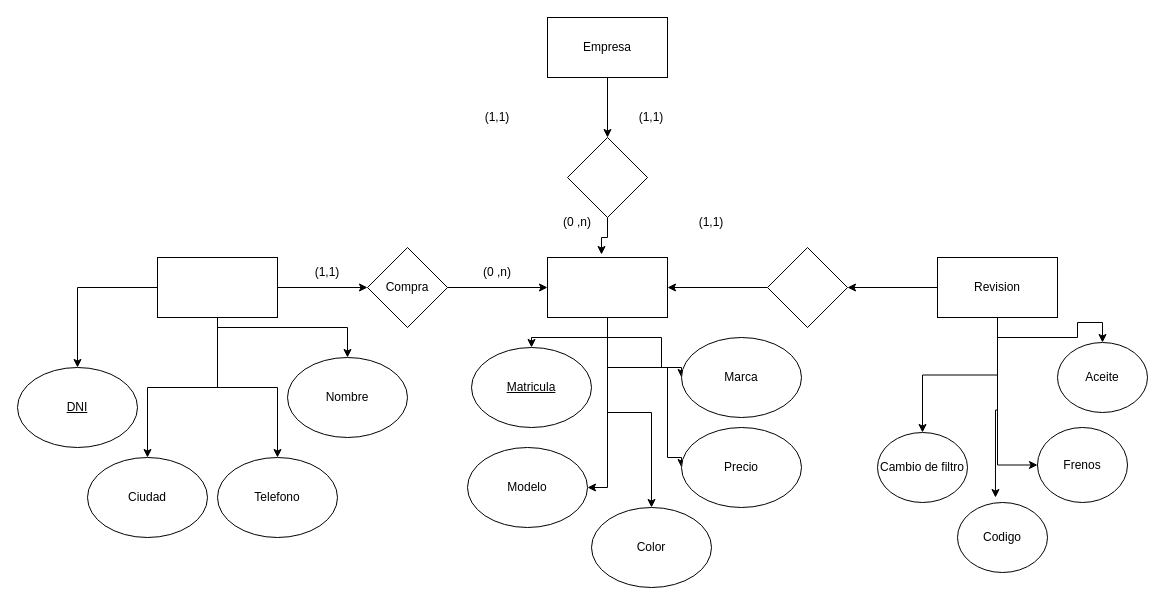
Some shapes in this 1165 by 605 pixel diagram are drawn without their labels. Here are the shapes that lost their labels. From the top down, the centre of each, then its label:
point 607,177: Vende
point 217,287: Cliente
point 607,287: Coche
point 807,287: Revisar
